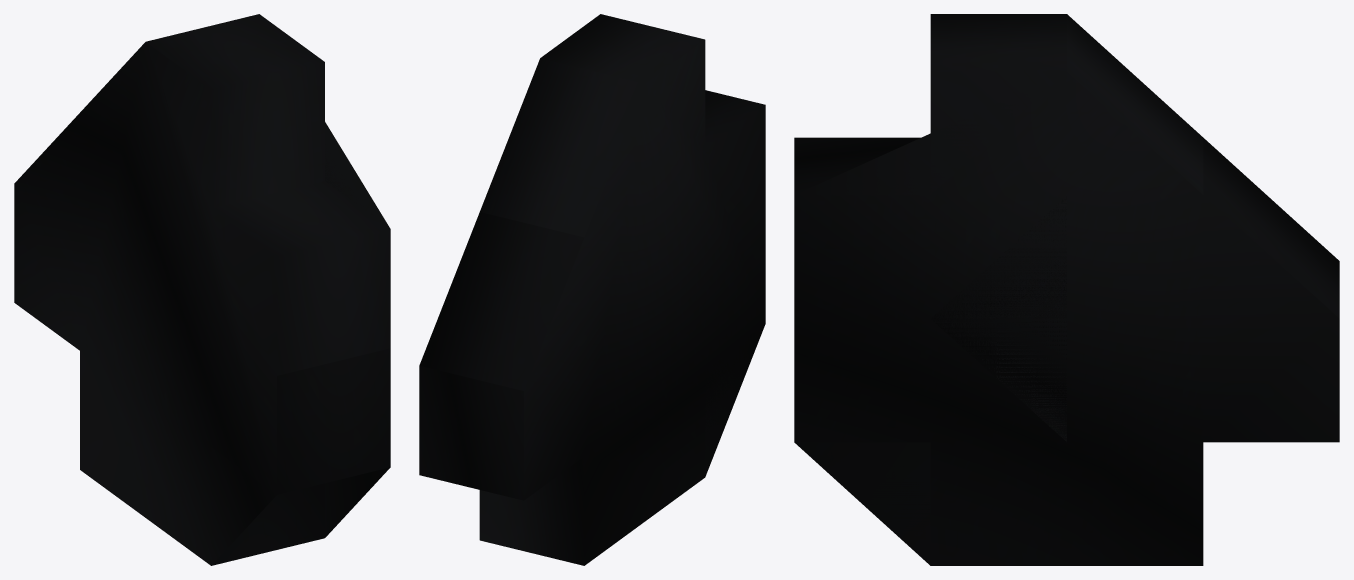
The picture shows the model from 3 angles, left to right: view 1: azimuth 30°, elevation 25°; view 2: azimuth 150°, elevation 25°; view 3: azimuth 270°, elevation 25°; orthographic projection. The views are drawn at different scales.
Size of the model in its own units: 0.24 by 0.96 by 0.96.
1 material, 1 textured.
